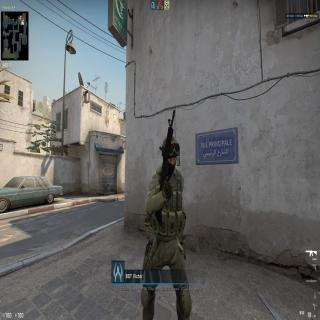CT-Head: (160, 133, 181, 175)
